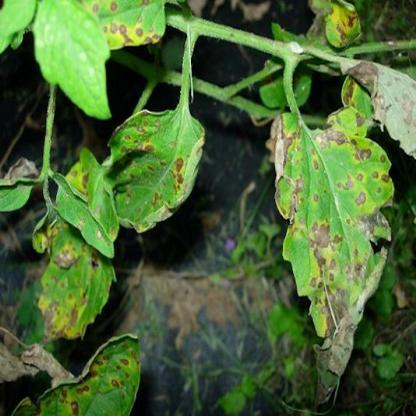tomato septoria leaf spot: (263, 91, 401, 377), (23, 147, 109, 371), (107, 95, 214, 237), (37, 312, 160, 414)
